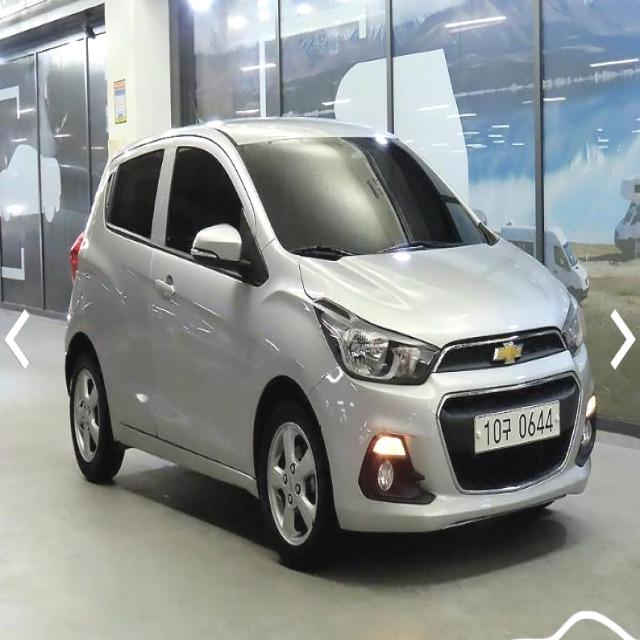car: (58, 105, 600, 572)
illegal_plate: (476, 394, 562, 462)
